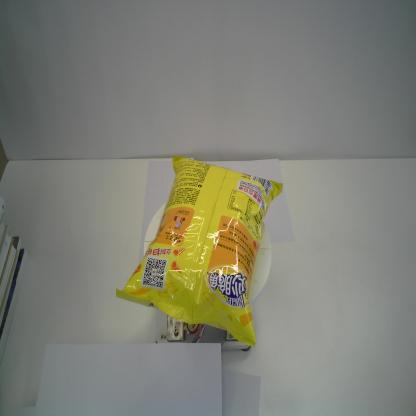Puffed Food: (116, 156, 284, 348)
